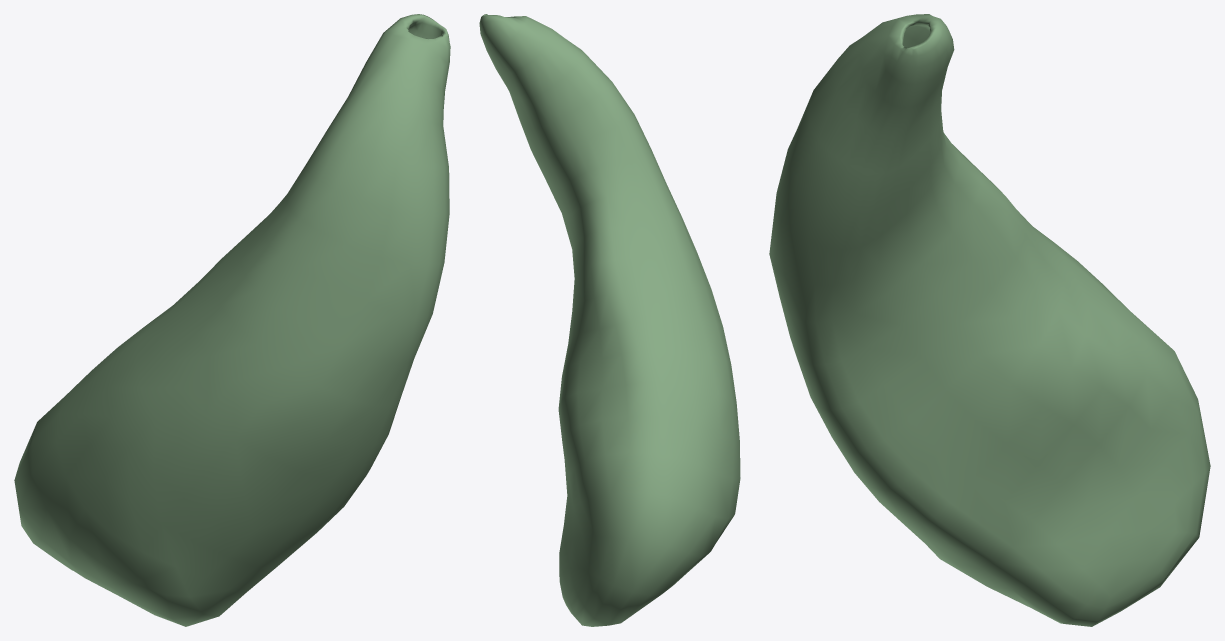
The model's file is gallbladder.glb.
The picture shows the model from 3 angles, left to right: view 1: azimuth 30°, elevation 25°; view 2: azimuth 150°, elevation 25°; view 3: azimuth 270°, elevation 25°; orthographic projection. The views are drawn at different scales.
Visible parts, largest first — view 1: VH_M_gallbladder; view 2: VH_M_gallbladder; view 3: VH_M_gallbladder.
Part boxes in pixels (x1,y1,x2,y2): VH_M_gallbladder: (14, 14, 450, 626); VH_M_gallbladder: (479, 14, 740, 626); VH_M_gallbladder: (769, 14, 1210, 626).
Size of the model in its own units: 0.0424 by 0.0728 by 0.0417.
